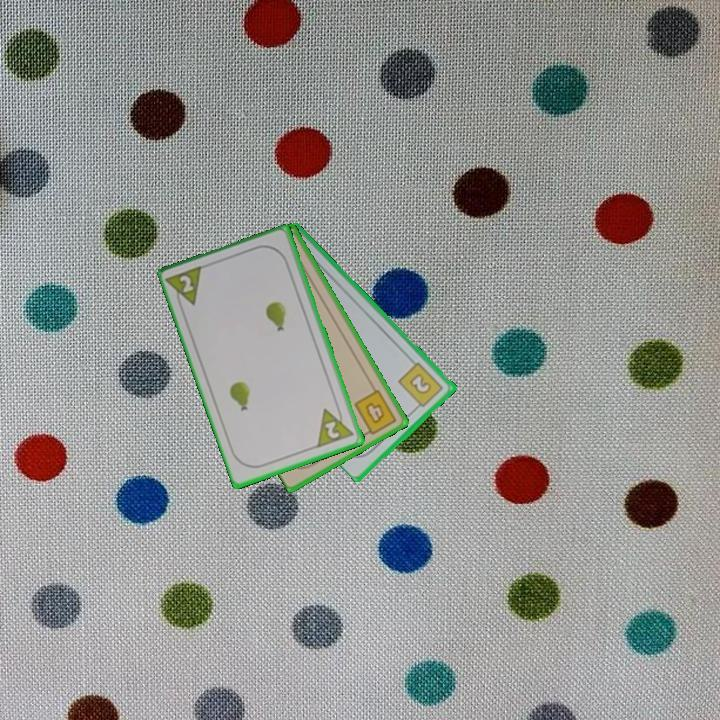2b: (395, 359, 446, 413)
2p: (164, 262, 207, 313), (314, 401, 357, 451)
4b: (350, 386, 400, 439)
